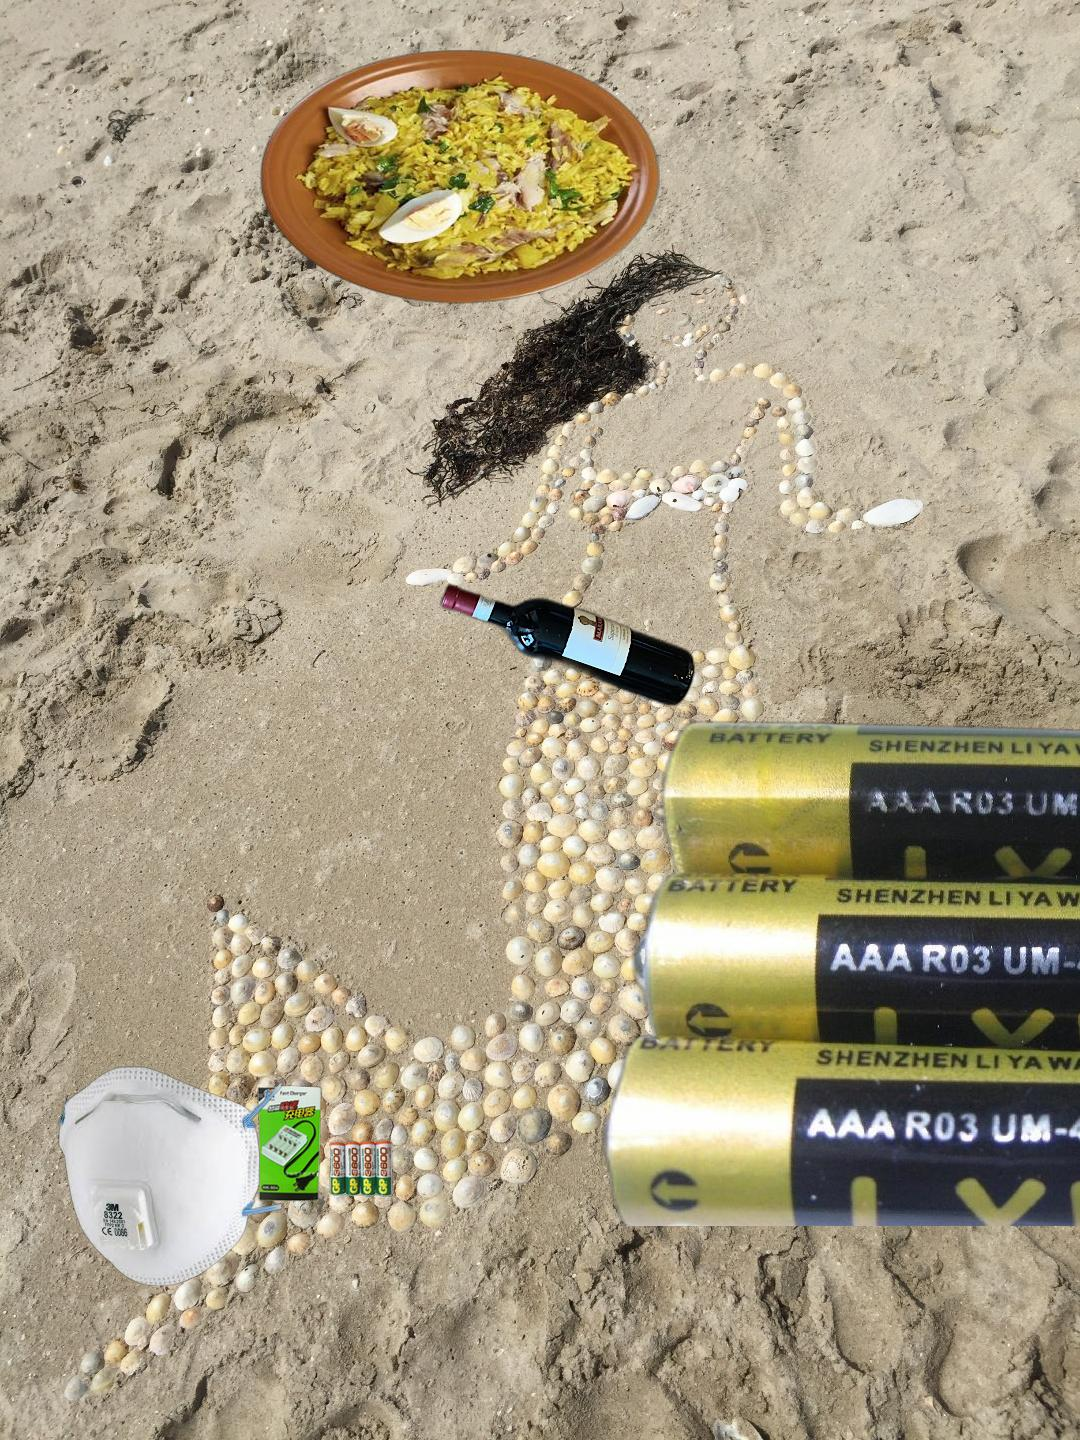battery: (593, 717, 1080, 1226), (255, 1083, 395, 1204)
biological: (258, 46, 663, 306)
glass: (437, 579, 698, 712)
trash: (58, 1066, 287, 1286)
